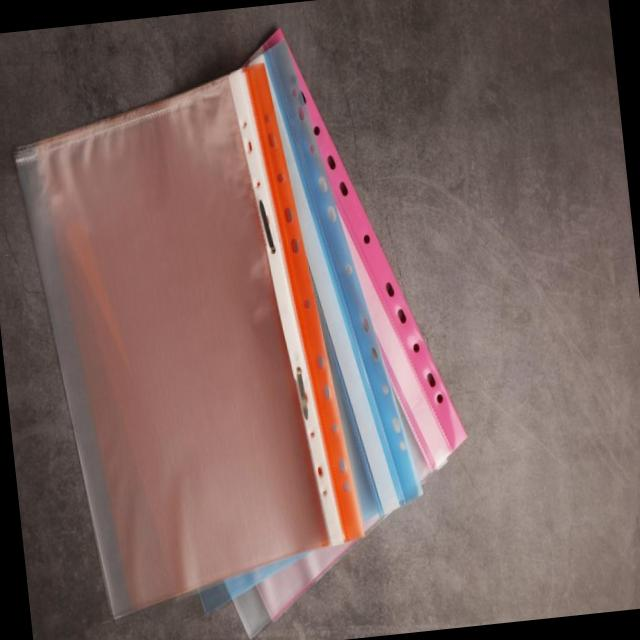notebook: (0, 20, 374, 624)
